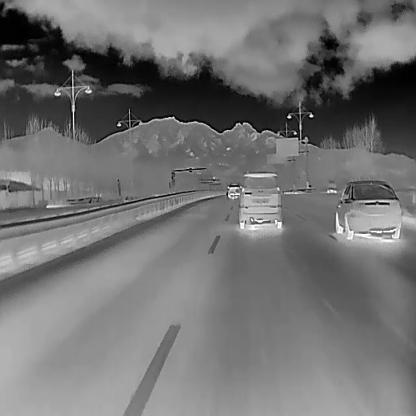car: (334, 178, 402, 240), (238, 169, 282, 228), (226, 180, 241, 198), (326, 177, 337, 194)
